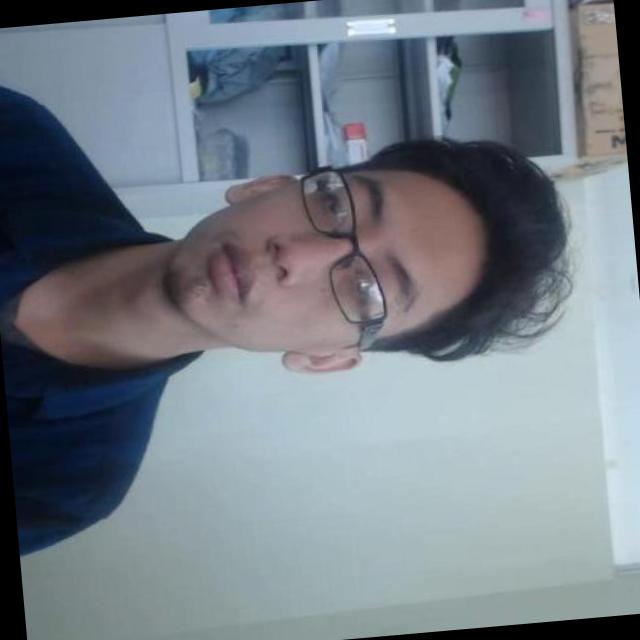bareface: (152, 124, 584, 371)
